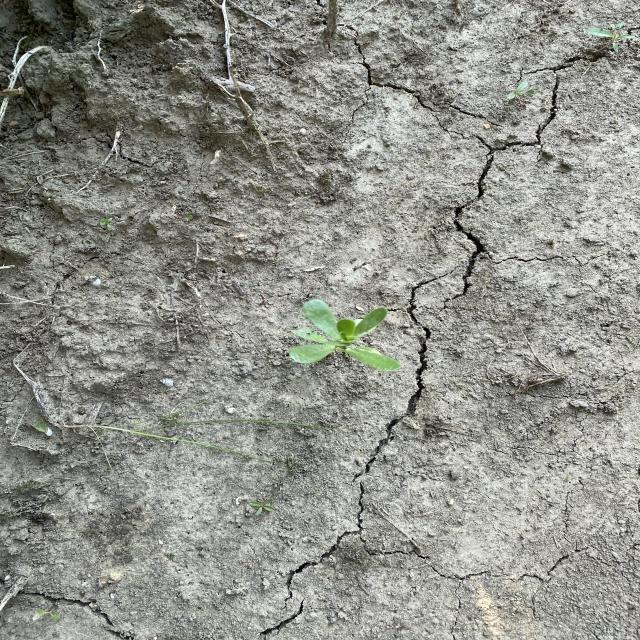Purslane: (288, 298, 405, 374)
